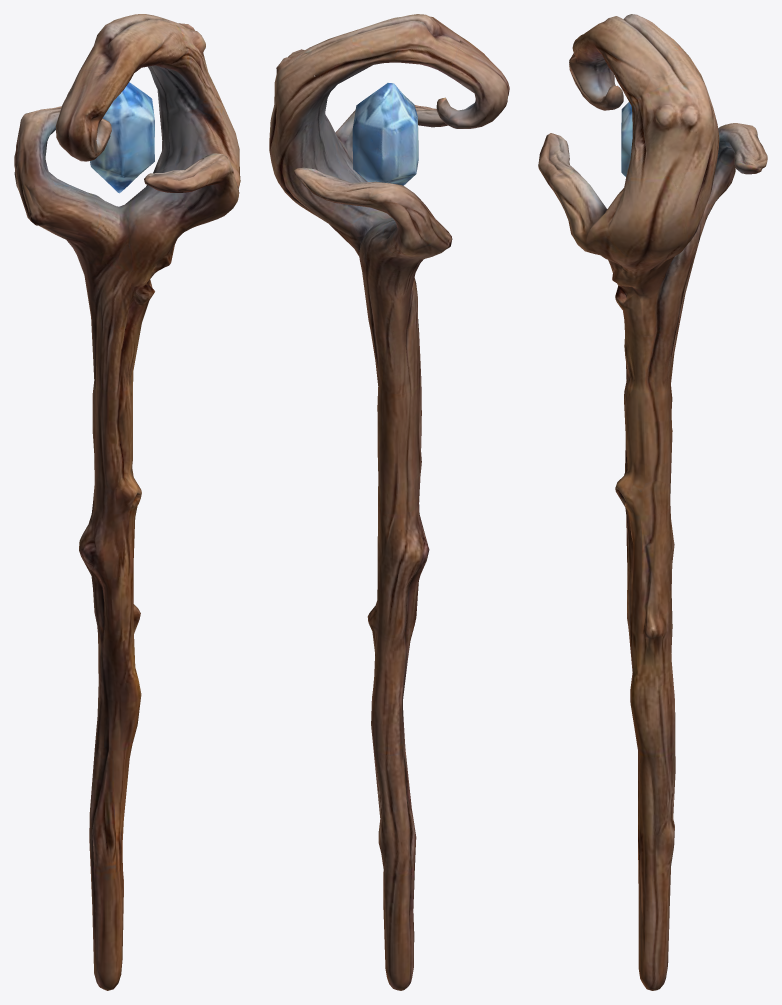
File: bastone-mago.glb
3 views of the same model, side by side, from view 1: azimuth 30°, elevation 25°; view 2: azimuth 150°, elevation 25°; view 3: azimuth 270°, elevation 25° (orthographic).
Parts seen in each view (by area): view 1: tripo_node_61a92d9f-baf2-4936-8193-3b62d5f0bfd1; view 2: tripo_node_61a92d9f-baf2-4936-8193-3b62d5f0bfd1; view 3: tripo_node_61a92d9f-baf2-4936-8193-3b62d5f0bfd1.
Part boxes in pixels (<box>): tripo_node_61a92d9f-baf2-4936-8193-3b62d5f0bfd1: <box>14,14,240,990</box>; tripo_node_61a92d9f-baf2-4936-8193-3b62d5f0bfd1: <box>269,14,509,990</box>; tripo_node_61a92d9f-baf2-4936-8193-3b62d5f0bfd1: <box>538,14,767,990</box>.
Size of the model in its own units: 0.2121 by 0.9814 by 0.2102.
1 material, 1 textured.
